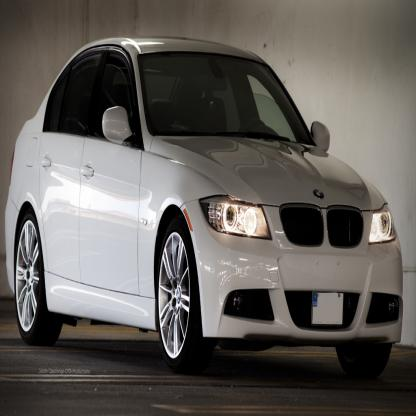Car: (5, 35, 403, 379)
